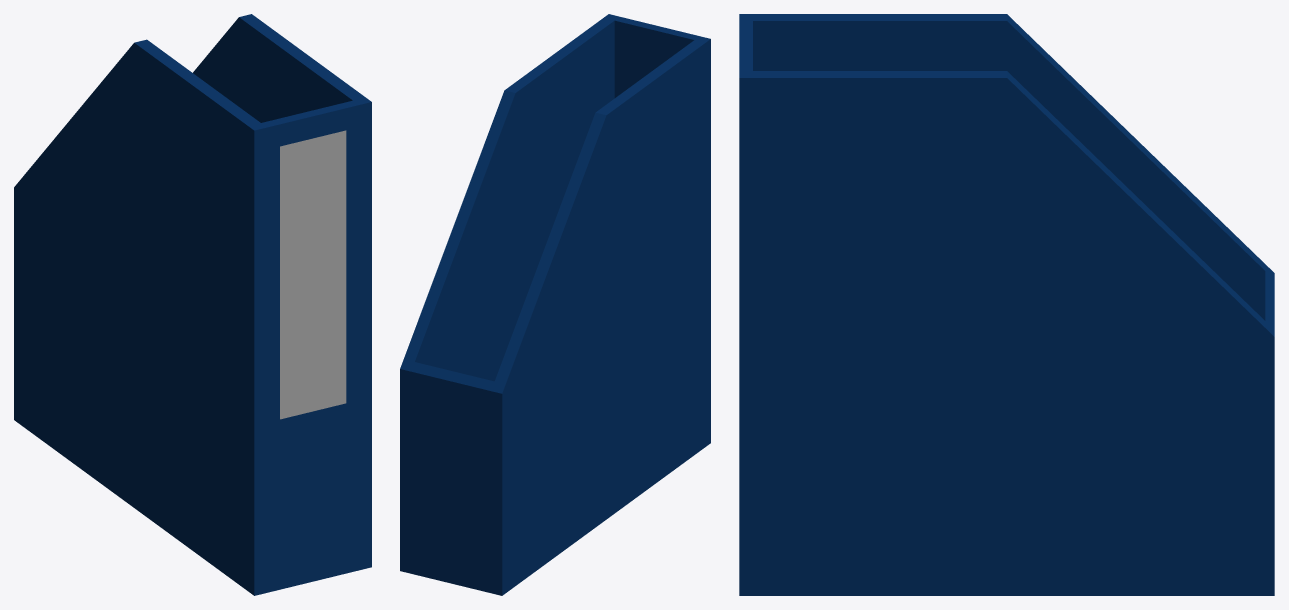
The model's file is FileHolderV1Blue.fbx.
The picture shows the model from 3 angles, left to right: view 1: azimuth 30°, elevation 25°; view 2: azimuth 150°, elevation 25°; view 3: azimuth 270°, elevation 25°; orthographic projection. The views are drawn at different scales.
Visible parts, largest first — view 1: FileHolderV1Blue; view 2: FileHolderV1Blue; view 3: FileHolderV1Blue.
Part boxes in pixels (x1=…): FileHolderV1Blue: x1=14, y1=14, x2=371, y2=595; FileHolderV1Blue: x1=400, y1=14, x2=710, y2=595; FileHolderV1Blue: x1=739, y1=14, x2=1274, y2=595.
Bounding box in the file's own units: 7.39 × 27.94 × 26.15.
